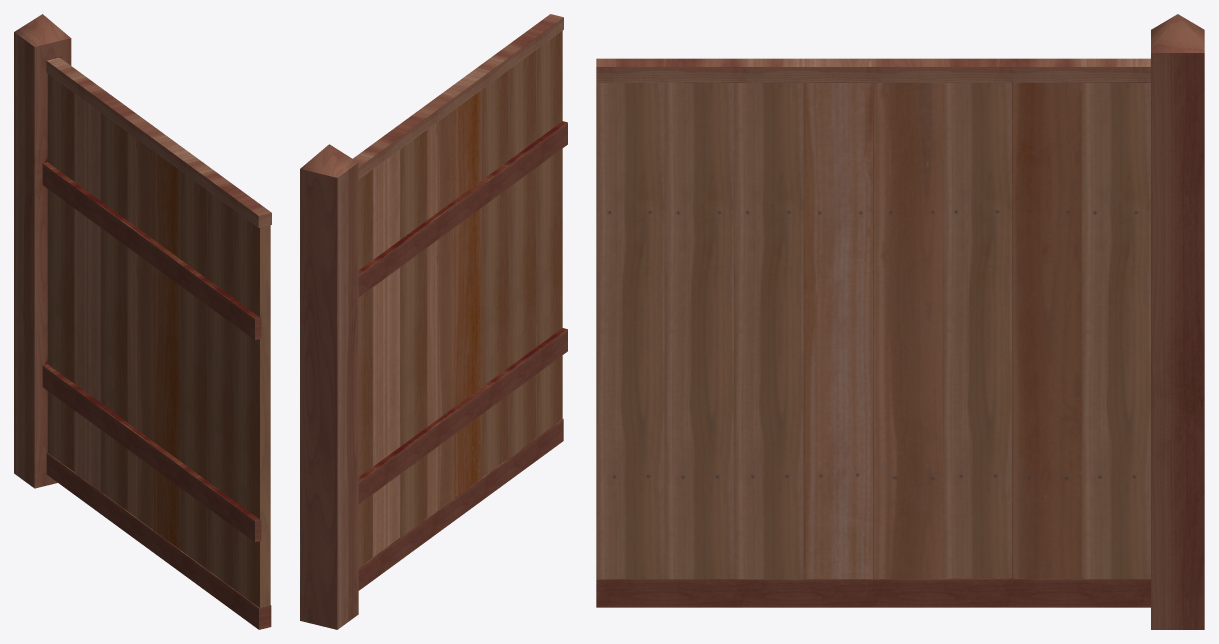
The model's file is PalingsFence.fbx.
3 views of the same model, side by side, from view 1: azimuth 30°, elevation 25°; view 2: azimuth 150°, elevation 25°; view 3: azimuth 270°, elevation 25° (orthographic). The views are drawn at different scales.
Parts seen in each view (by area): view 1: polySurface3; view 2: polySurface3; view 3: polySurface3.
Boxes of the visible parts, bbox=[...] form: polySurface3: bbox=[14, 14, 271, 629]; polySurface3: bbox=[300, 14, 567, 629]; polySurface3: bbox=[596, 14, 1204, 629].
Size of the model in its own units: 9.04 by 110 by 100.
